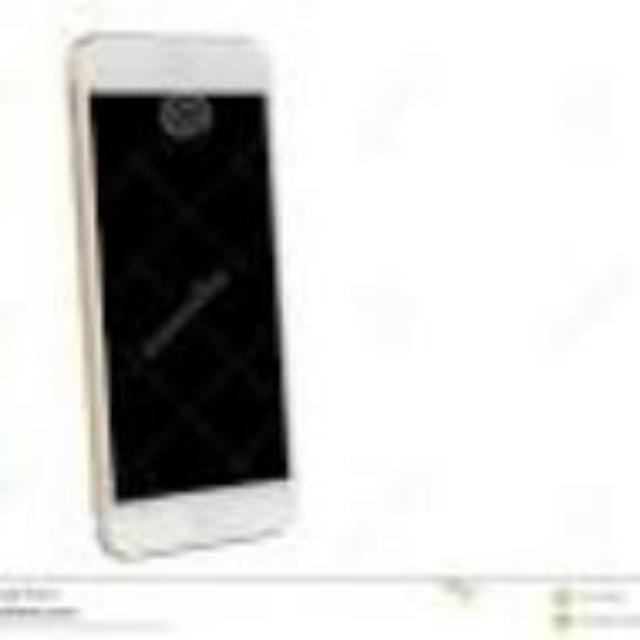PhoneUse: (51, 29, 307, 557)
